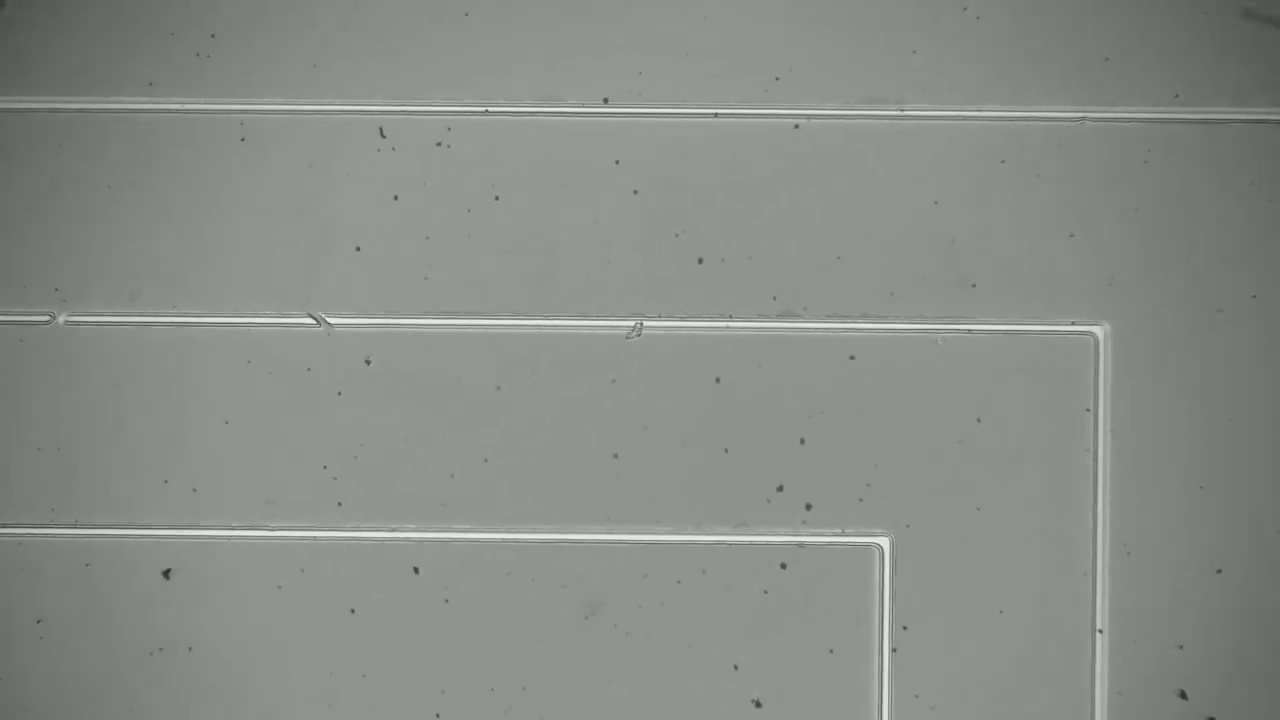open: (299, 306, 342, 339), (35, 302, 77, 335)
stains_enbedded: (616, 302, 654, 350)
